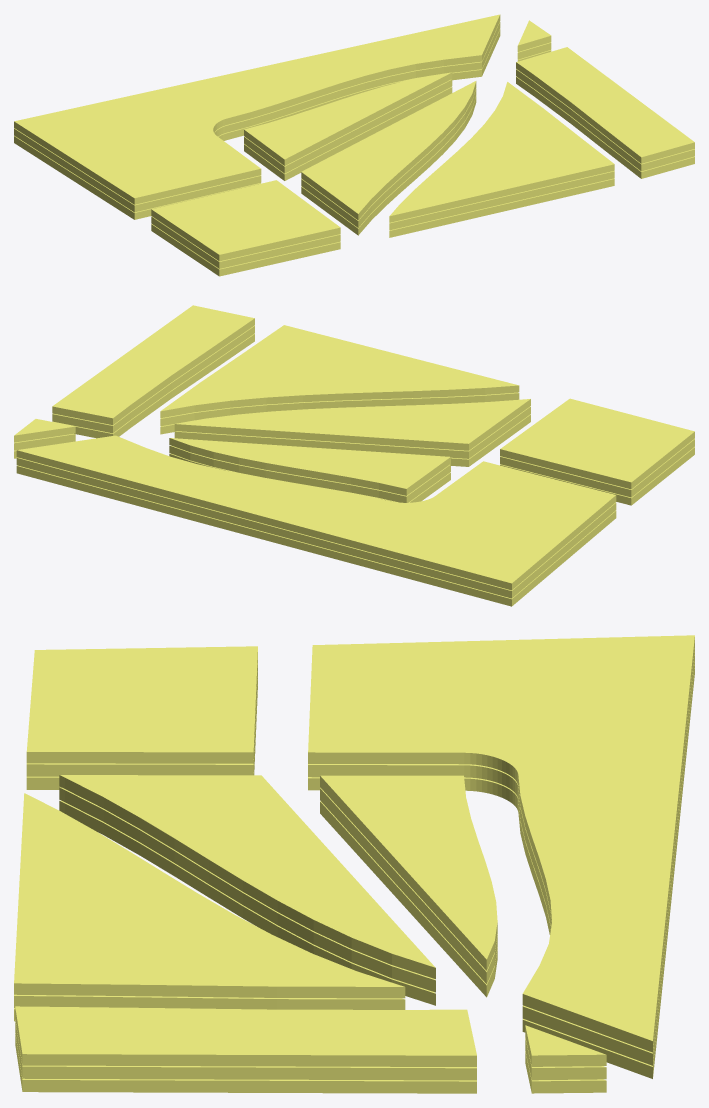
File: test_city_0.fbx
The picture shows the model from 3 angles, top to bottom: view 1: azimuth 30°, elevation 25°; view 2: azimuth 150°, elevation 25°; view 3: azimuth 270°, elevation 25°; orthographic projection. The views are drawn at different scales.
Parts seen in each view (by area): view 1: CityEngineMaterial_m; view 2: CityEngineMaterial_m; view 3: CityEngineMaterial_m.
Boxes of the visible parts, x1,y1,x2,y2 form: CityEngineMaterial_m: [14, 14, 694, 276]; CityEngineMaterial_m: [14, 305, 694, 606]; CityEngineMaterial_m: [14, 635, 694, 1093].
Bounding box in the file's own units: 238 × 10 × 163.
